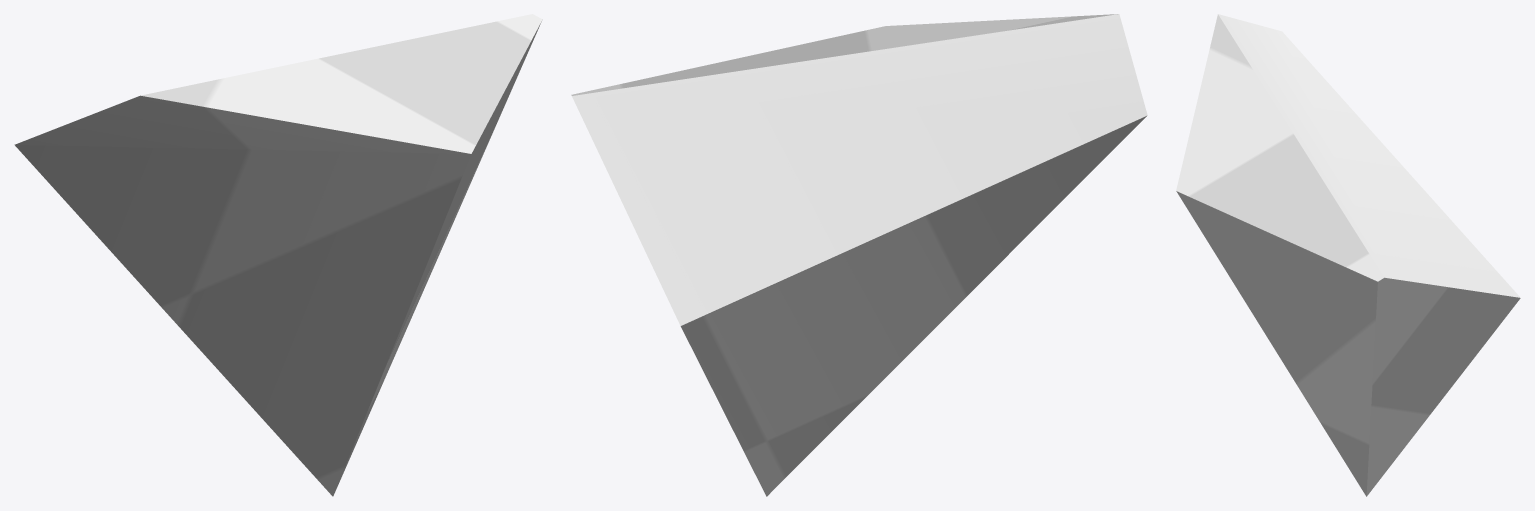
File: Project01.glb
The picture shows the model from 3 angles, left to right: view 1: azimuth 30°, elevation 25°; view 2: azimuth 150°, elevation 25°; view 3: azimuth 270°, elevation 25°; orthographic projection. The views are drawn at different scales.
Visible parts, largest first — view 1: project06; view 2: project06; view 3: project06.
Boxes of the visible parts, left/top/right/bottom form: project06: left=14, top=14, right=542, bottom=496; project06: left=571, top=14, right=1147, bottom=496; project06: left=1176, top=14, right=1520, bottom=496.
Size of the model in its own units: 1.18 by 1.04 by 0.8515.
Materials: 2 (1 with a texture image).
